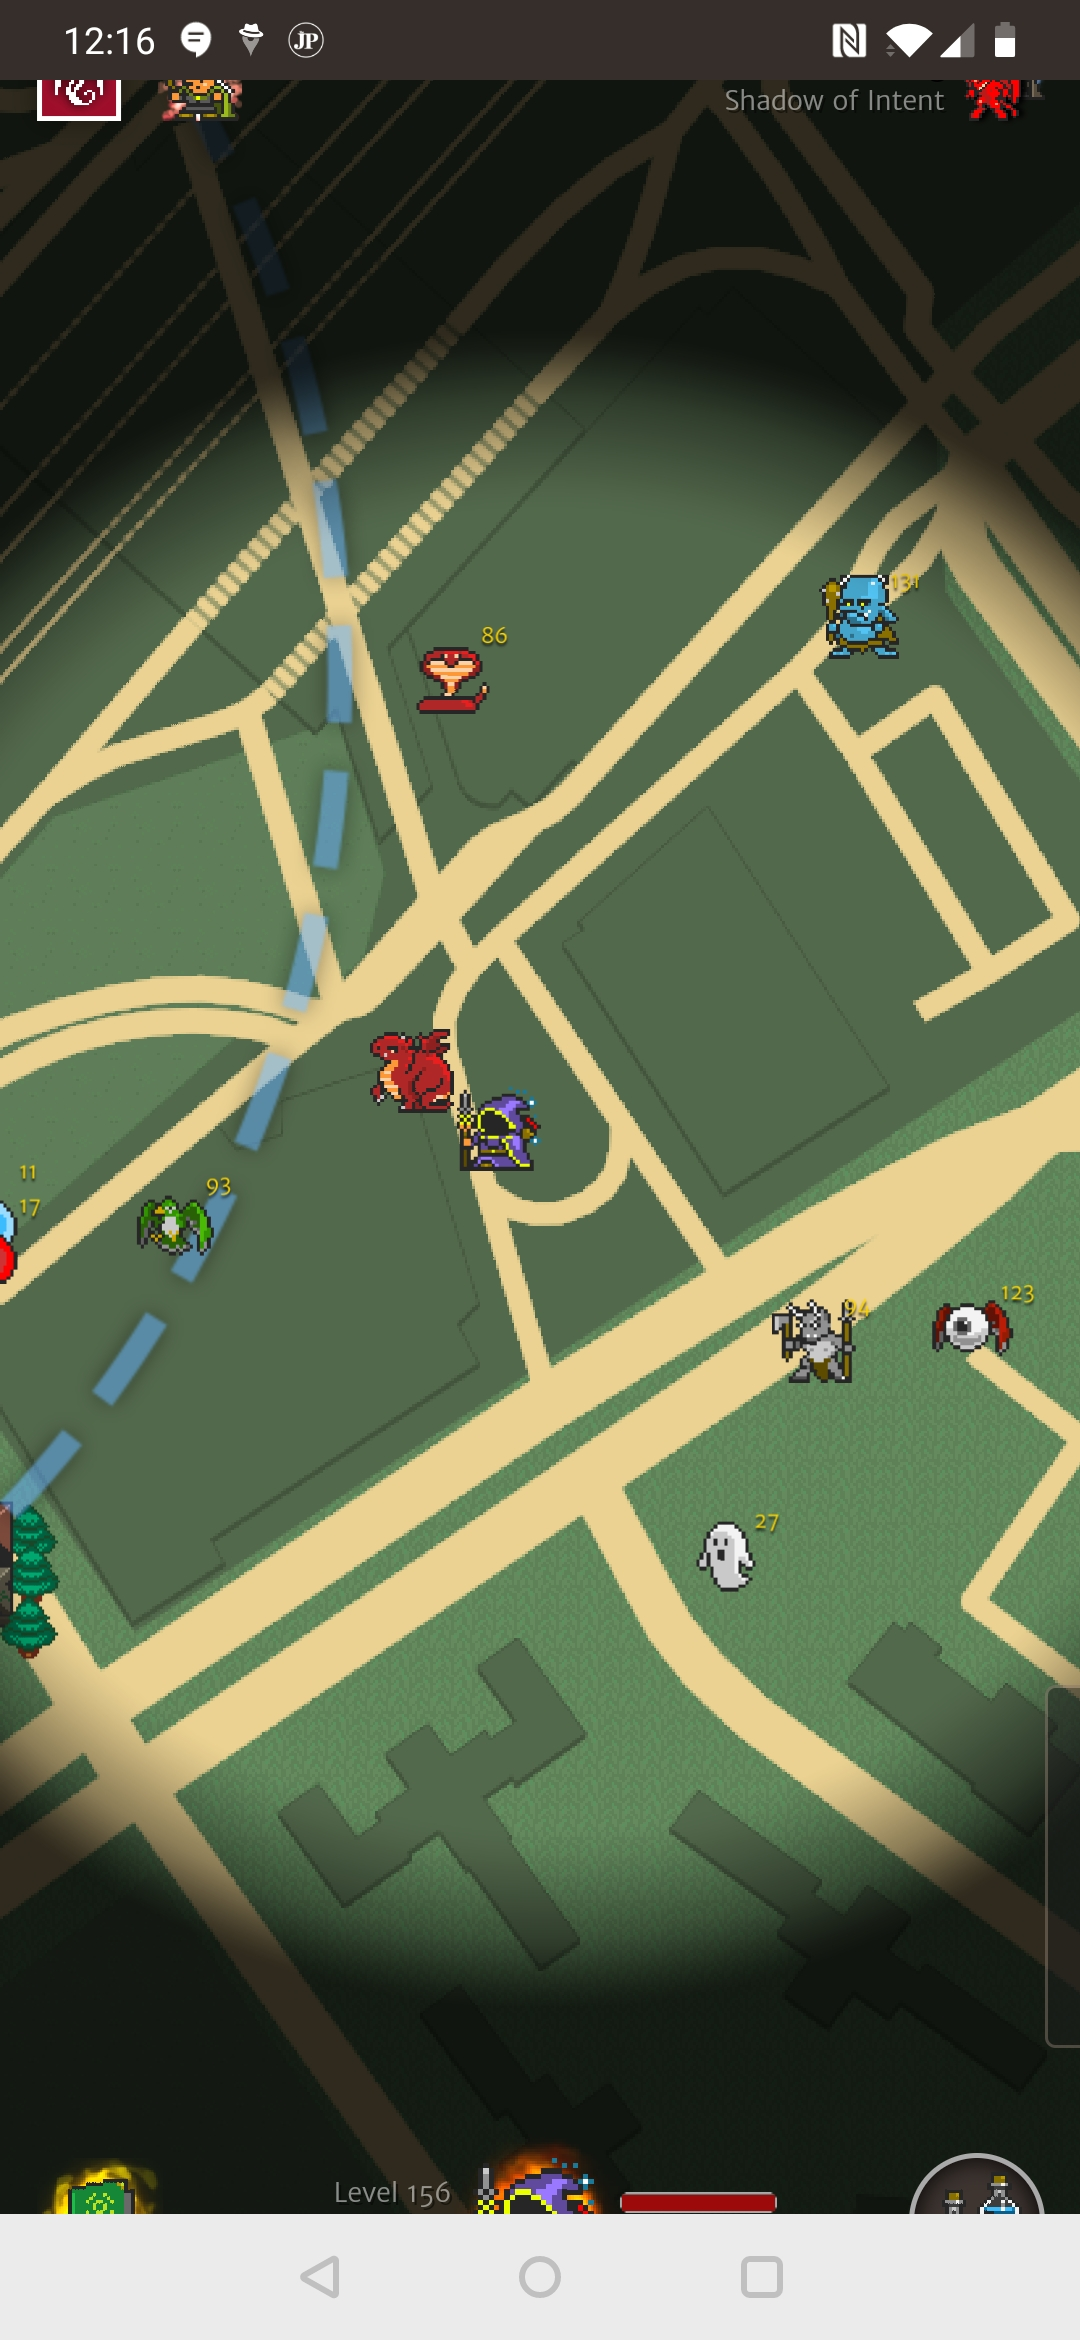monster: (108, 1168, 250, 1278), (405, 616, 519, 744), (732, 1285, 867, 1392), (670, 1502, 801, 1606), (922, 1271, 1046, 1371), (808, 554, 926, 658)
player: (450, 1082, 546, 1175)
